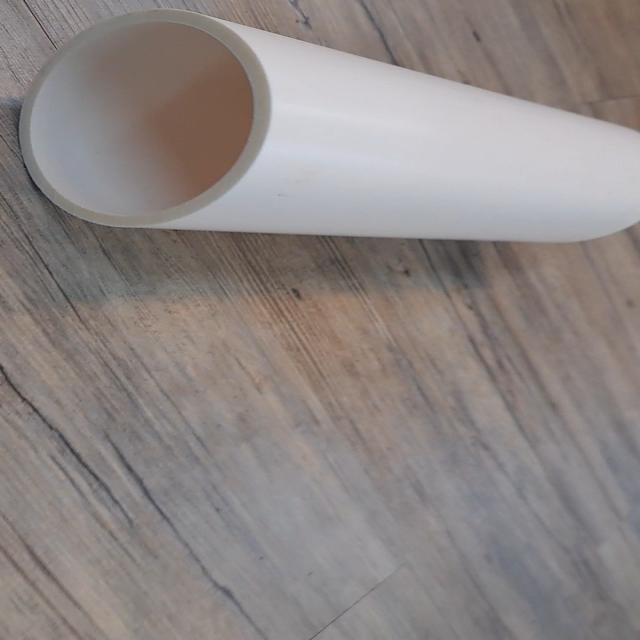CORAL: (4, 9, 639, 249)
